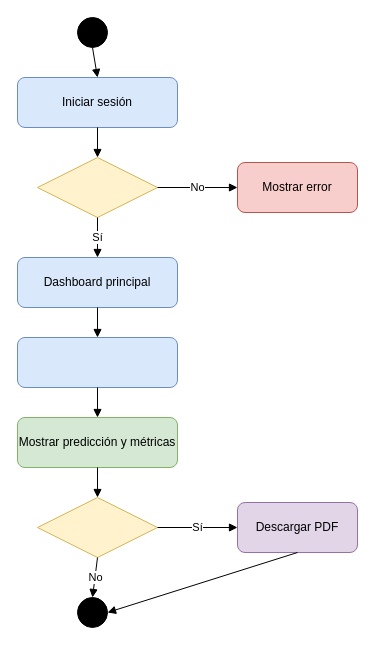
Image size: 375x645. Some labels were removed from this diagram. Each missing label, with the centre of its shape:
"Ver predicción t+1" goes at point (97, 362).
"¿Autenticado?" goes at point (97, 187).
"¿Exportar?" goes at point (97, 527).
